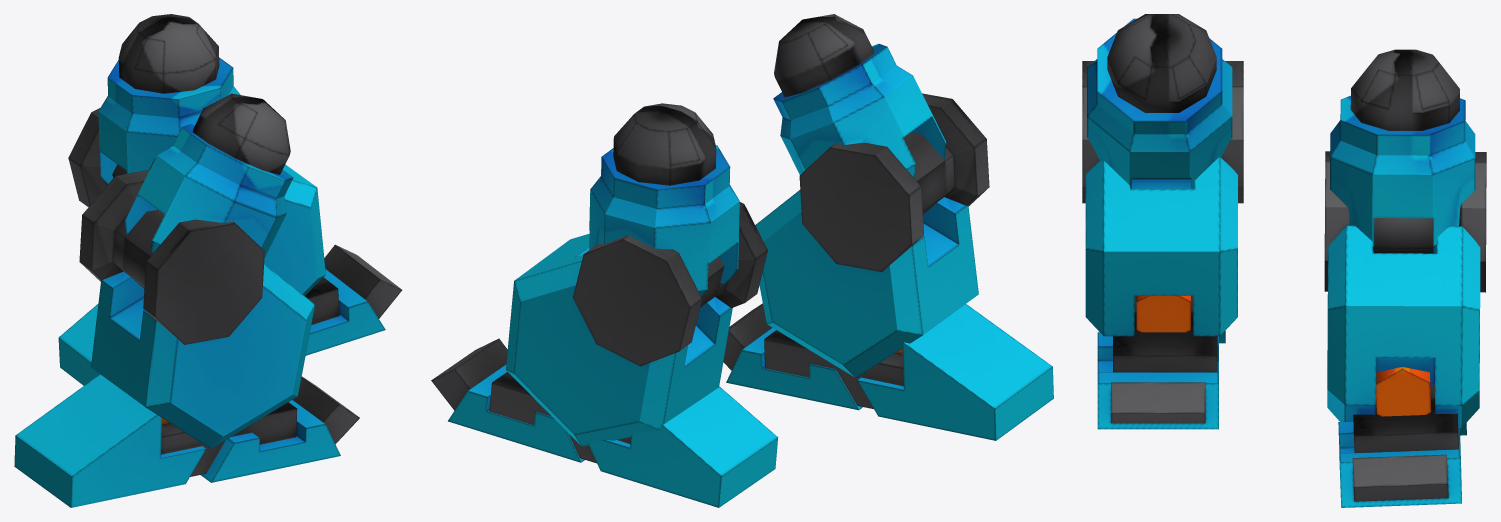
The model's file is Bottom_Idle2.obj.
3 views of the same model, side by side, from view 1: azimuth 30°, elevation 25°; view 2: azimuth 150°, elevation 25°; view 3: azimuth 270°, elevation 25° (orthographic). The views are drawn at different scales.
Parts seen in each view (by area): view 1: Object013, Object014, Object012, Object009, Object011, Object010; view 2: Object013, Object010, Object014, Object011, Object009, Object012; view 3: Object010, Object013, Object009, Object012, Object014, Object011.
Part boxes in pixels (left/top/right/bottom): Object013: left=79, top=169, right=314, bottom=448; Object014: left=14, top=374, right=359, bottom=507; Object012: left=125, top=93, right=293, bottom=258; Object009: left=98, top=14, right=240, bottom=183; Object011: left=58, top=244, right=402, bottom=385; Object010: left=68, top=108, right=325, bottom=295; Object013: left=755, top=93, right=989, bottom=377; Object010: left=506, top=202, right=767, bottom=446; Object014: left=723, top=303, right=1053, bottom=440; Object011: left=431, top=338, right=778, bottom=507; Object009: left=589, top=103, right=739, bottom=296; Object012: left=773, top=14, right=946, bottom=177; Object010: left=1324, top=151, right=1486, bottom=428; Object013: left=1082, top=61, right=1243, bottom=336; Object009: left=1330, top=49, right=1475, bottom=253; Object012: left=1087, top=14, right=1232, bottom=188; Object014: left=1097, top=295, right=1225, bottom=429; Object011: left=1338, top=367, right=1466, bottom=507.
Size of the model in its own units: 129 by 101 by 94.65.
